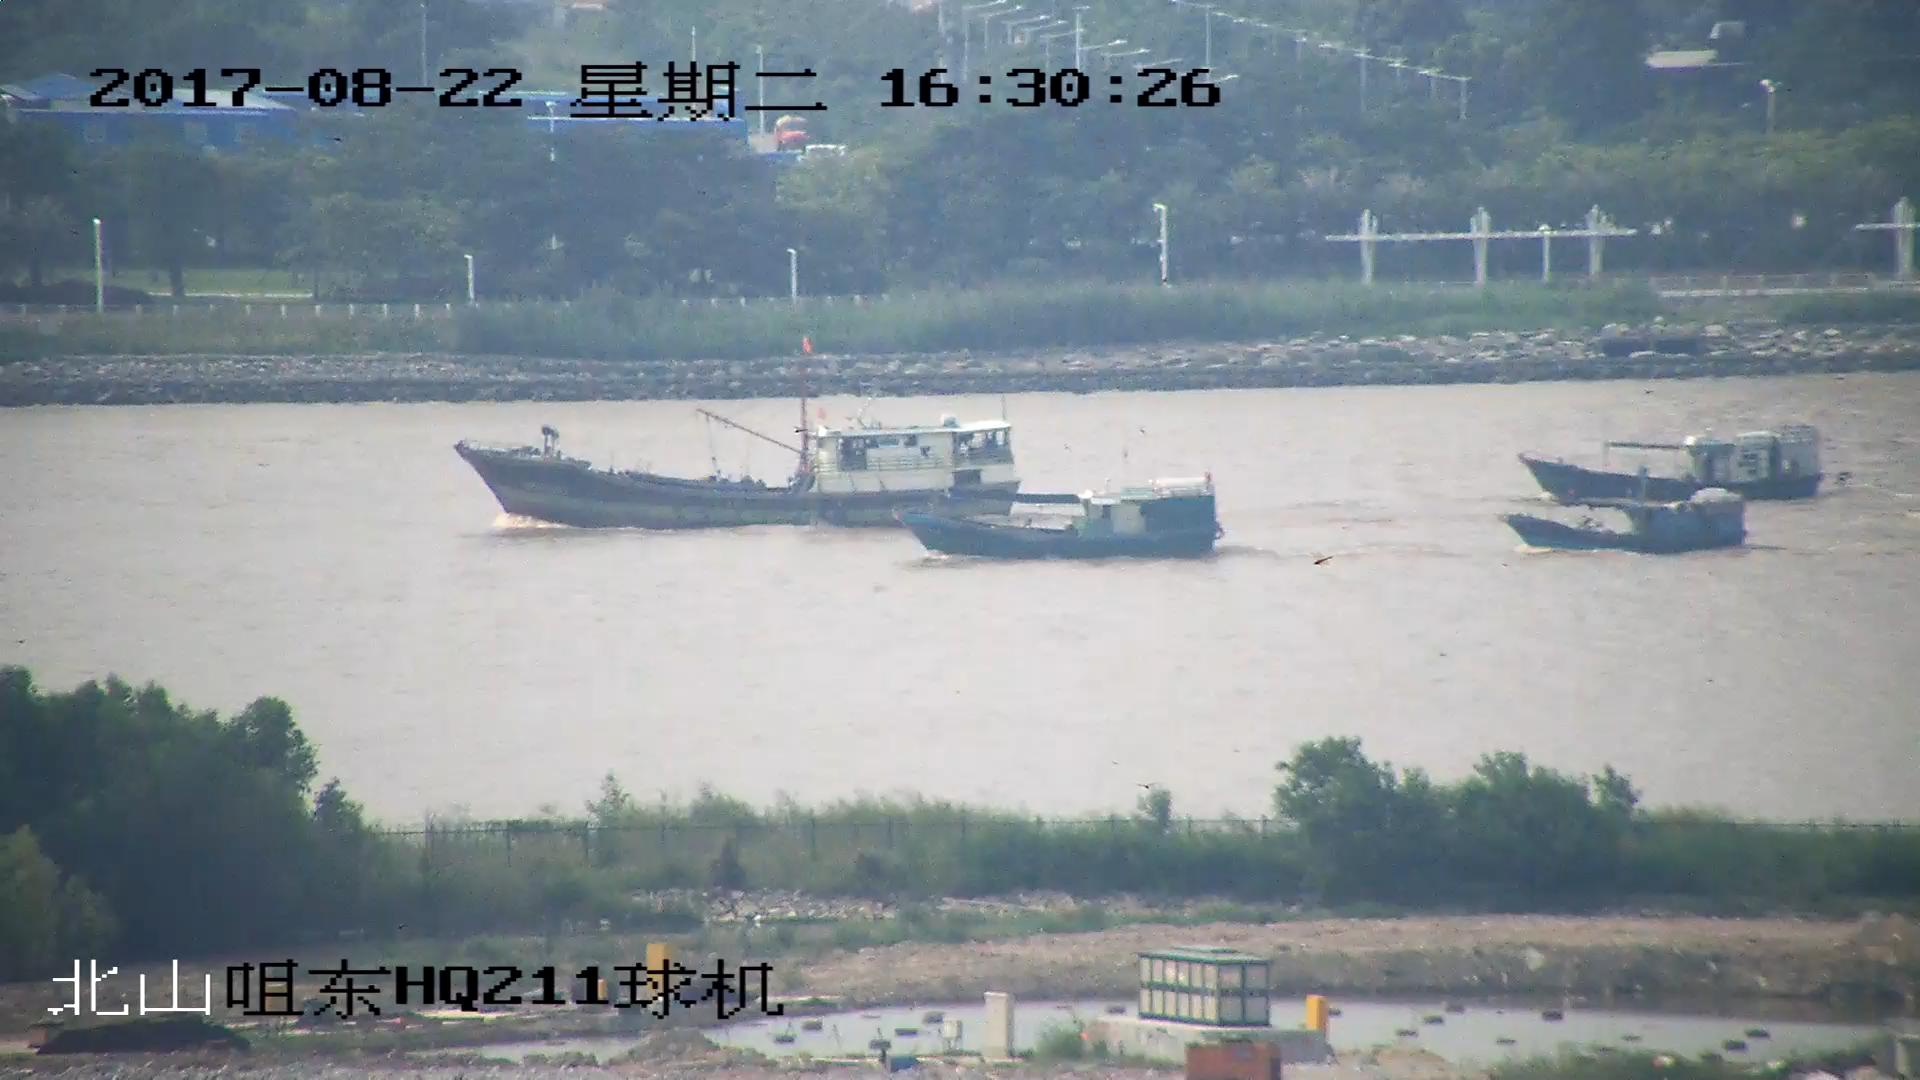fishing boat: (448, 341, 1018, 533), (899, 476, 1216, 561), (1523, 429, 1827, 503), (1510, 490, 1744, 559)
